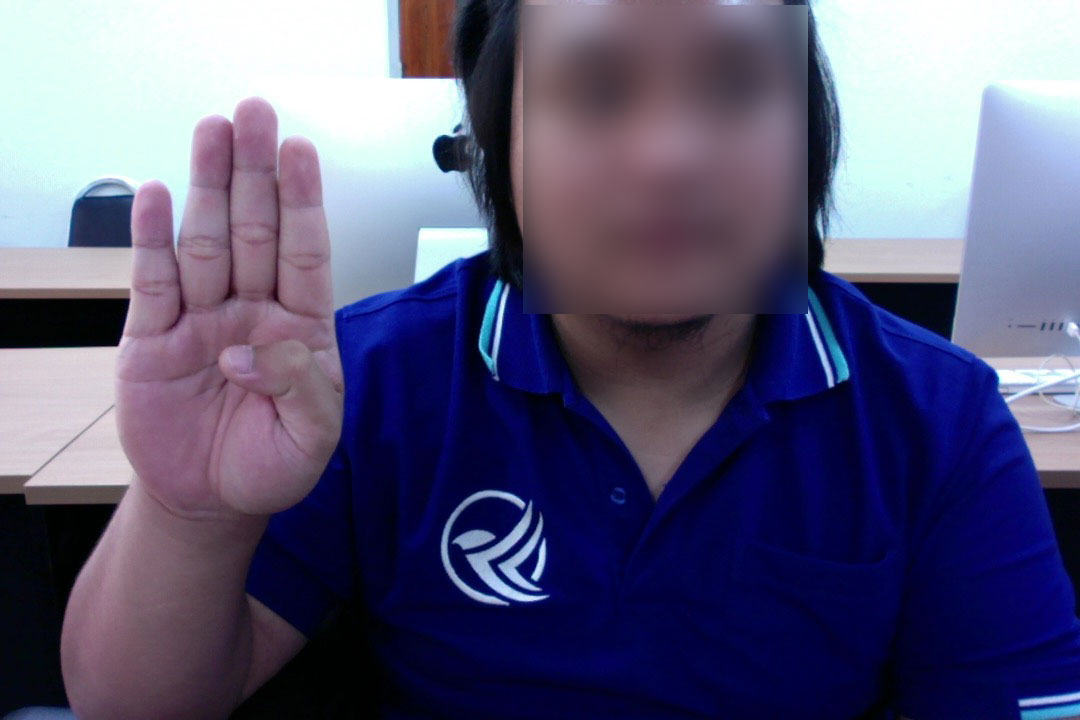bor: (89, 81, 356, 538)
